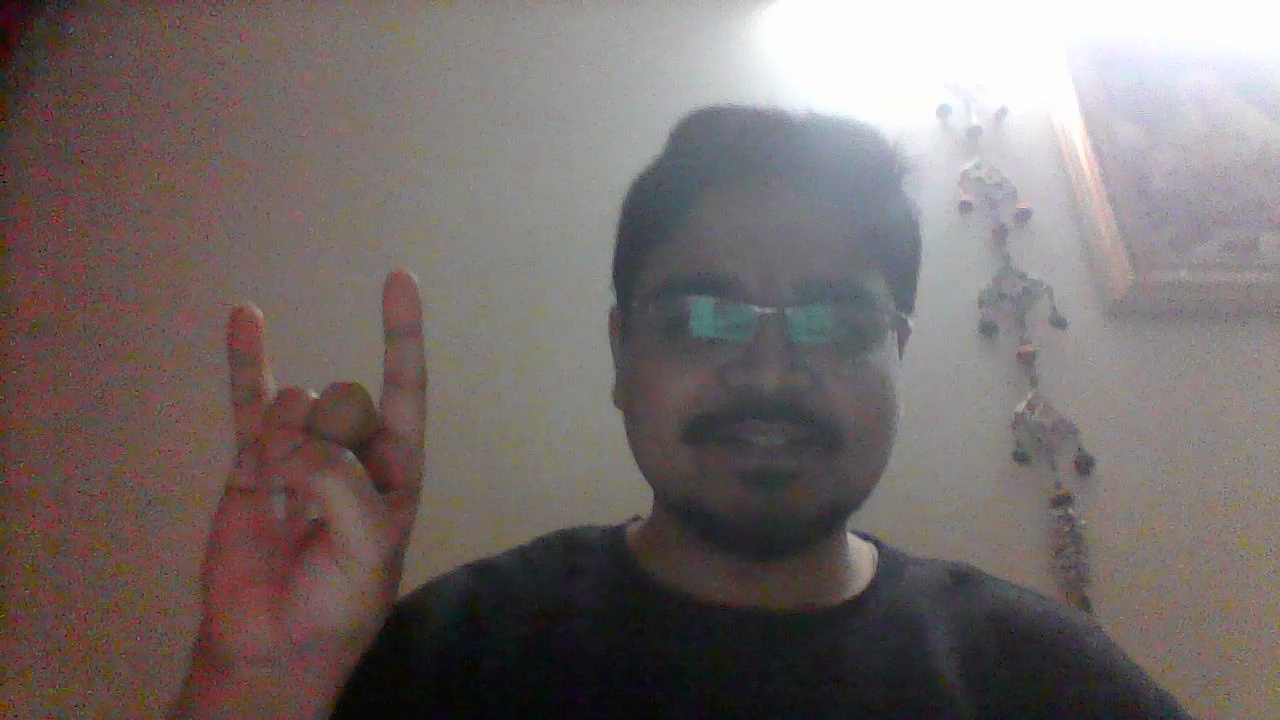ILoveYou: (195, 268, 432, 694)
